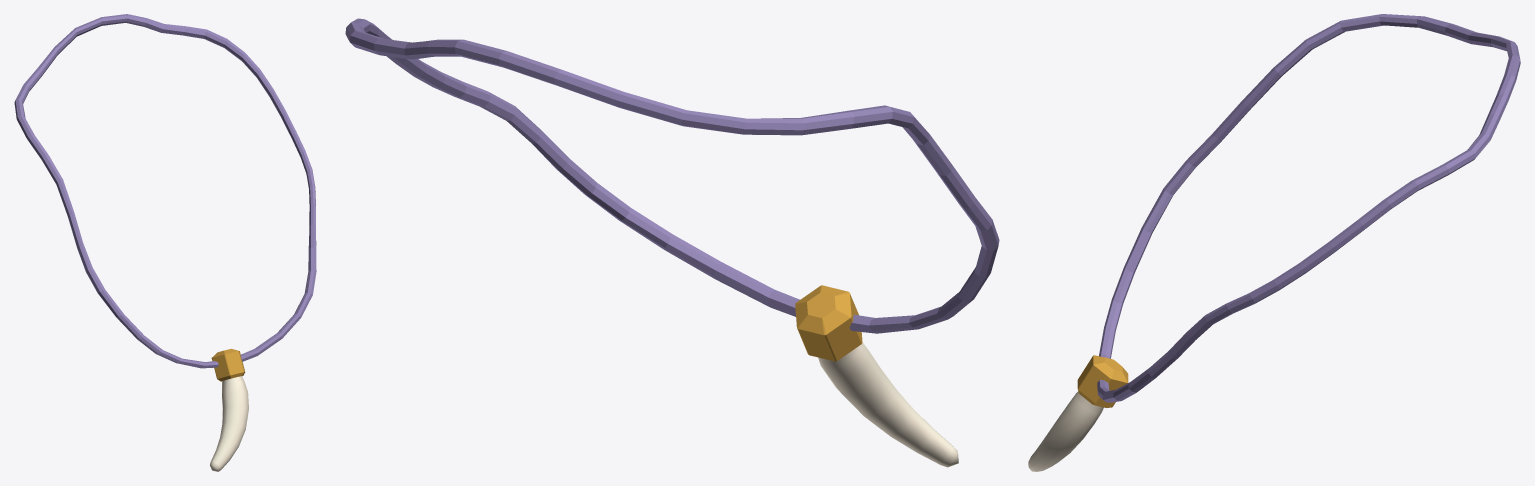
File: Tusk_Amulet.glb
The picture shows the model from 3 angles, left to right: view 1: azimuth 30°, elevation 25°; view 2: azimuth 150°, elevation 25°; view 3: azimuth 270°, elevation 25°; orthographic projection. The views are drawn at different scales.
Visible parts, largest first — view 1: Tusk_Amulet, Tusk_Amulet_Tusk; view 2: Tusk_Amulet, Tusk_Amulet_Tusk; view 3: Tusk_Amulet, Tusk_Amulet_Tusk.
Part boxes in pixels (<box>): Tusk_Amulet: <box>14,14,316,381</box>; Tusk_Amulet_Tusk: <box>210,376,248,471</box>; Tusk_Amulet: <box>345,18,999,361</box>; Tusk_Amulet_Tusk: <box>818,342,958,467</box>; Tusk_Amulet: <box>1077,14,1520,407</box>; Tusk_Amulet_Tusk: <box>1028,391,1103,471</box>.
Bounding box in the file's own units: 0.8537 × 1.01 × 0.9993.
